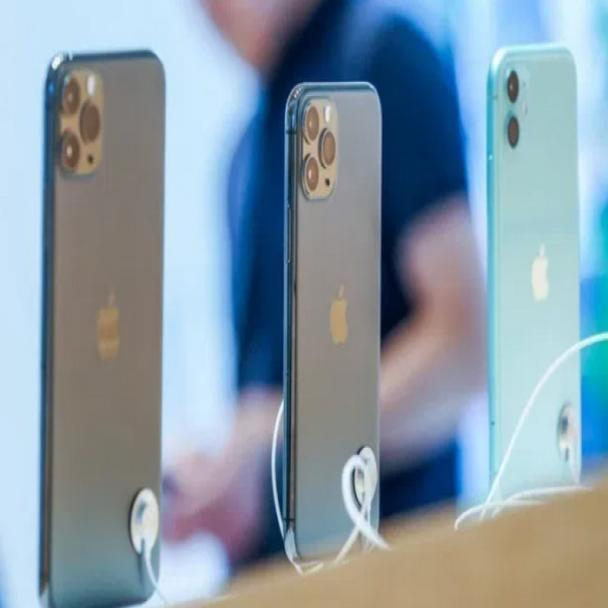Handphone: (39, 49, 162, 600), (283, 82, 377, 559), (486, 46, 584, 492)
